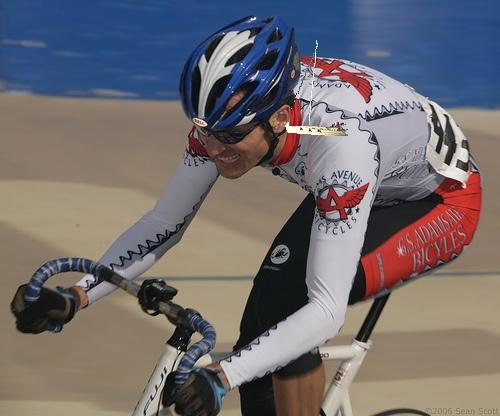tampered: (285, 41, 348, 136)
